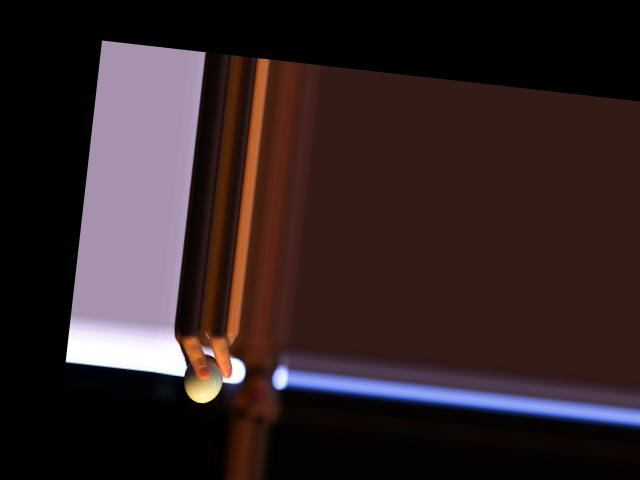egg: (182, 351, 226, 405)
